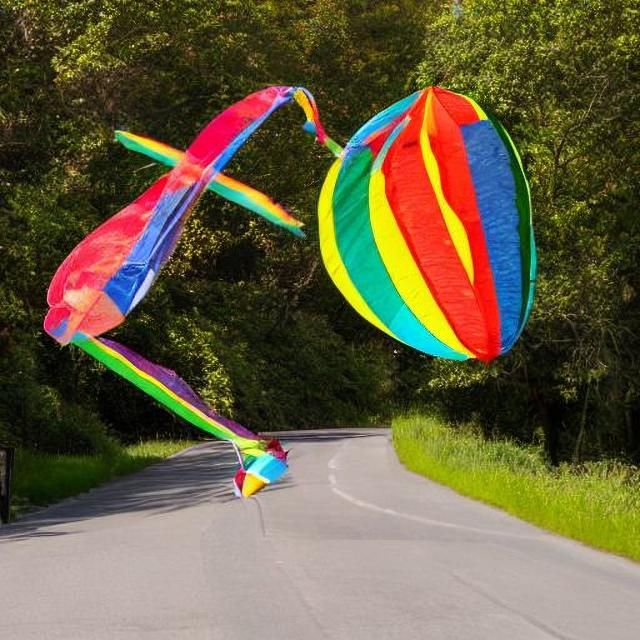floating object: (41, 80, 316, 506), (319, 82, 538, 360)
